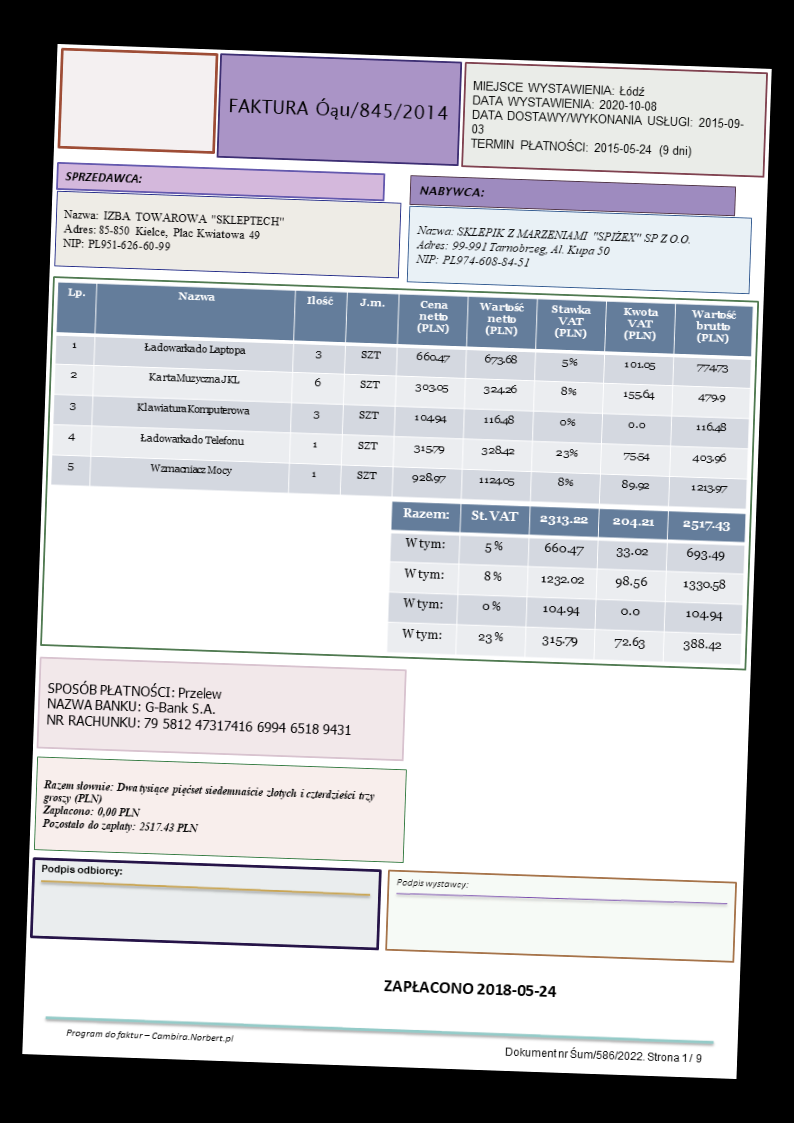Table: (49, 279, 752, 508), (386, 499, 747, 667)
TextBox: (467, 75, 748, 163), (39, 775, 378, 842), (43, 676, 357, 741), (414, 220, 693, 274), (59, 204, 287, 260), (225, 91, 450, 127), (382, 975, 560, 1002), (501, 1042, 702, 1065), (63, 1025, 235, 1045), (38, 860, 126, 879), (394, 872, 469, 893), (63, 168, 144, 187), (415, 181, 487, 201)
